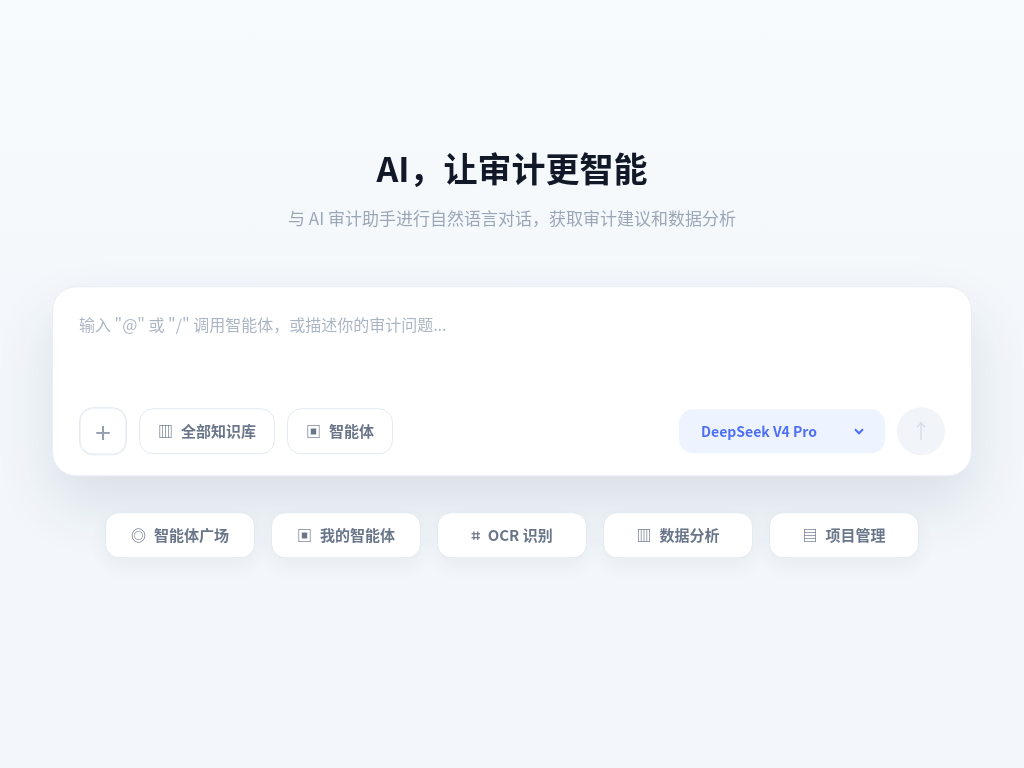
Test case: ChatPortalPage › submits selected model, knowledge base, and agent to the query API
Select "DeepSeek V4 Pro" in the dropdown named "选择模型" at (782, 431), box [697,420,867,442]
Click the button "▥ 全部知识库" at (207, 431), box [139,408,275,454]
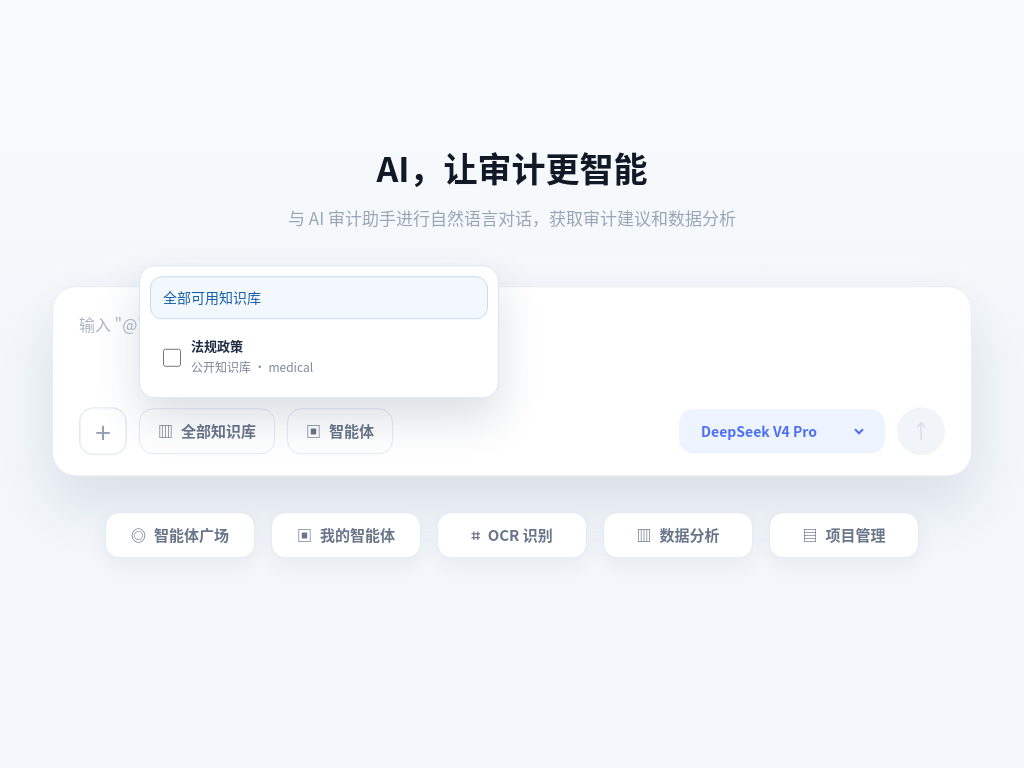
Click the text "法规政策" at (217, 346), box [191,337,243,356]
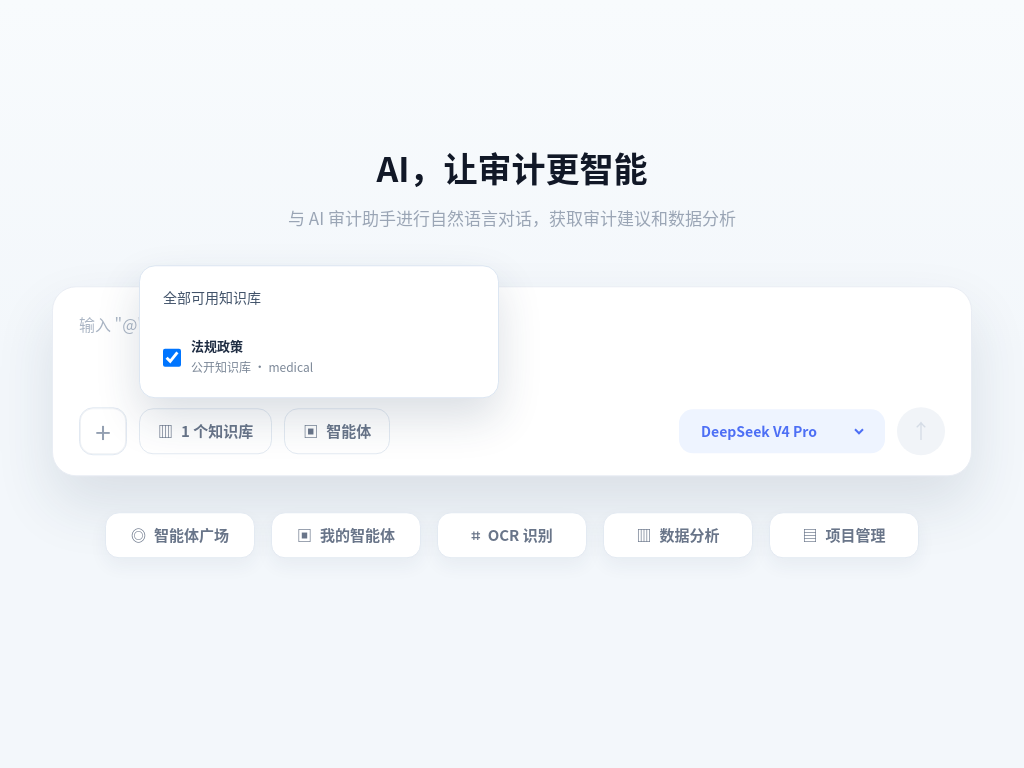
Type "@基" into the text box named "输入相关问题以对话" at (512, 351), box [79,312,945,389]
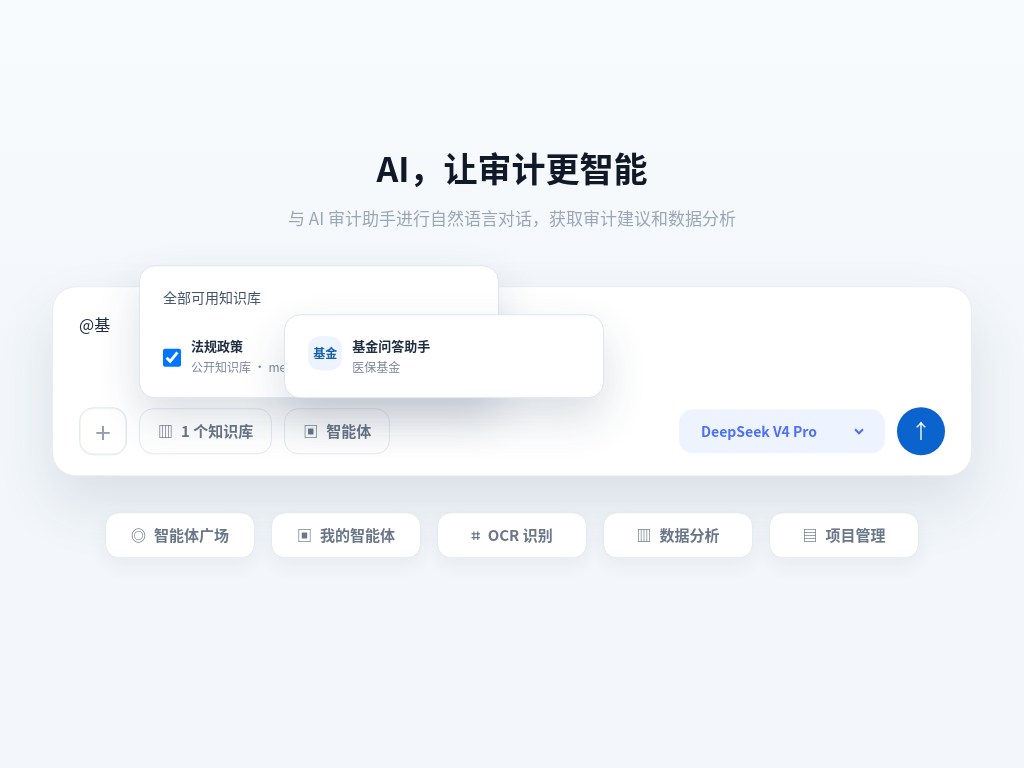
Click the text "基金问答助手" at (391, 346), box [352,337,430,356]
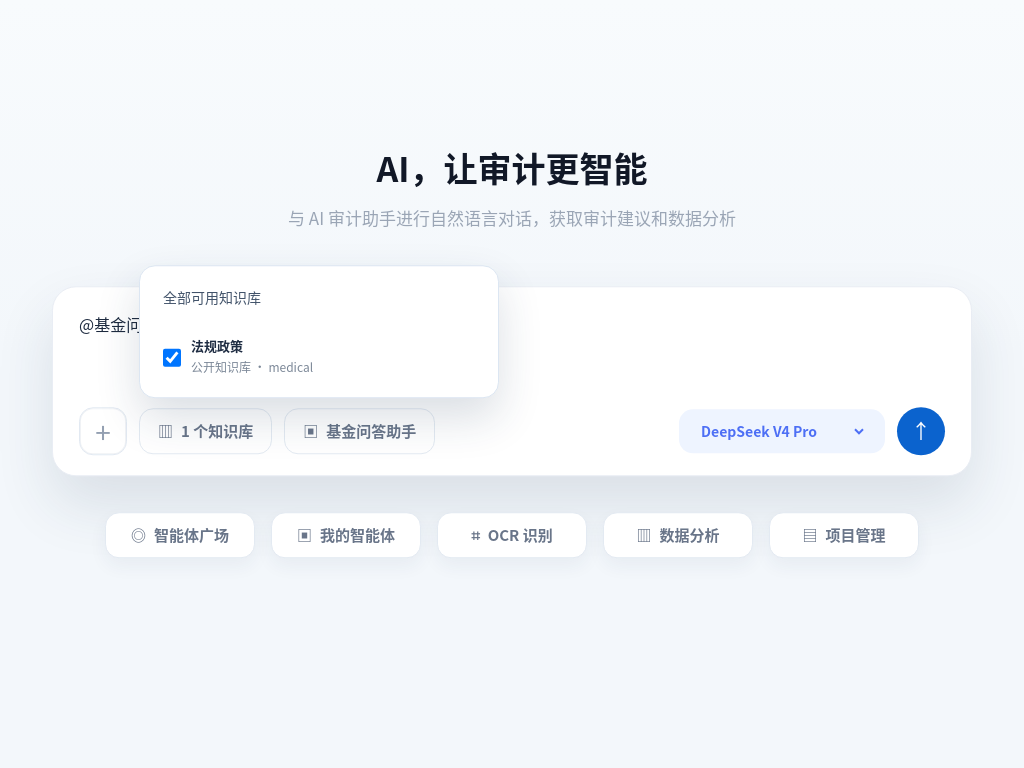
Replace the text in the text box named "输入相关问题以对话" with "医保基金审核依据" at (512, 351), box [79,312,945,389]
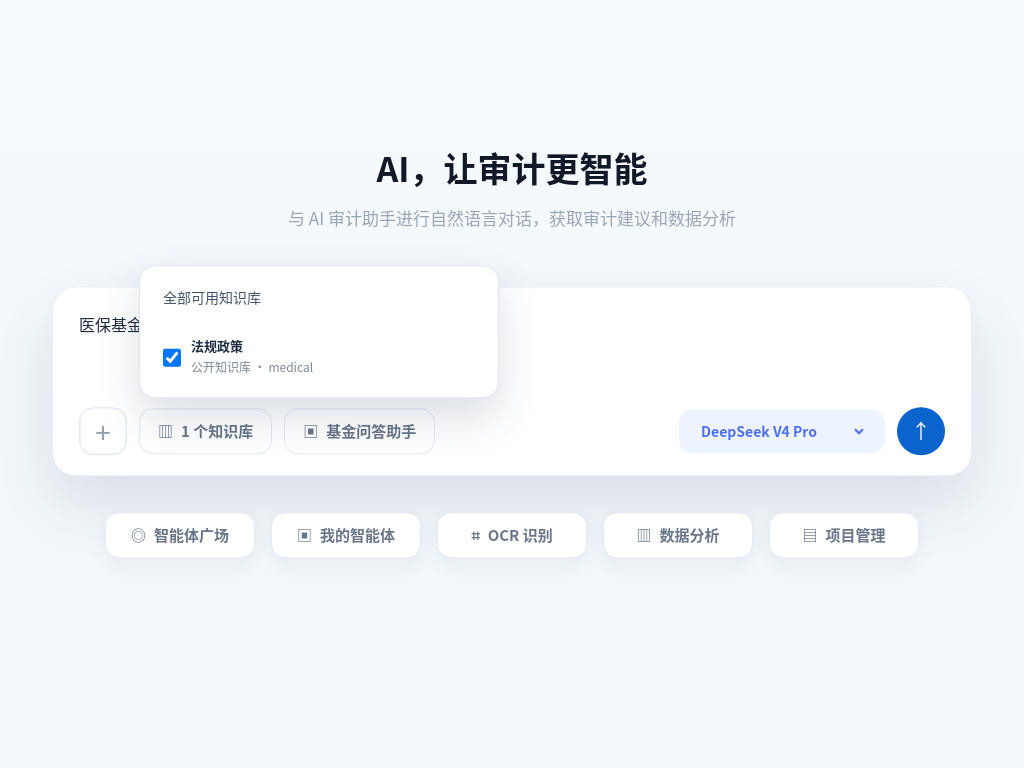
Click the button named "发送问题" at (921, 431), box [897,407,945,455]
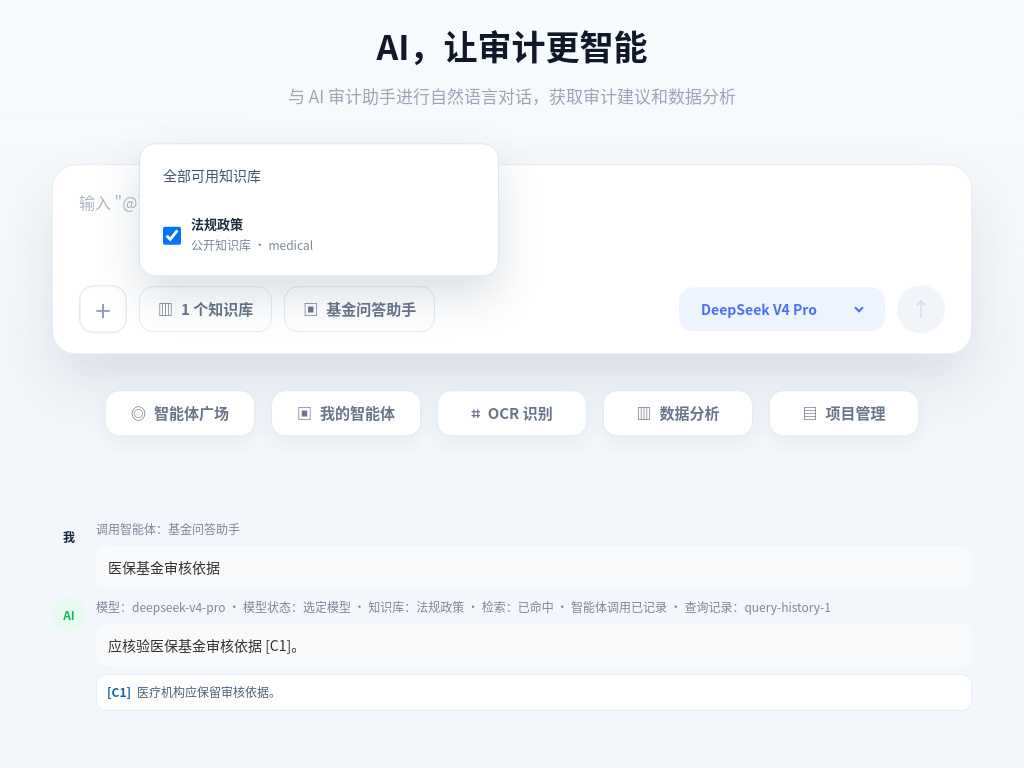
Now the text "应核验医保基金审核依据 [C1]。" is shown, box [96,624,972,666]
Now the text "智能体调用已记录" is shown, box [96,598,831,615]
